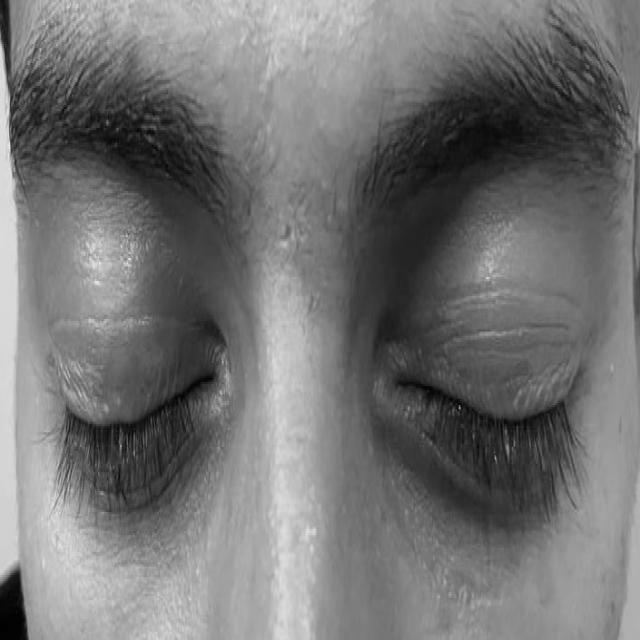real: (29, 142, 617, 580)
